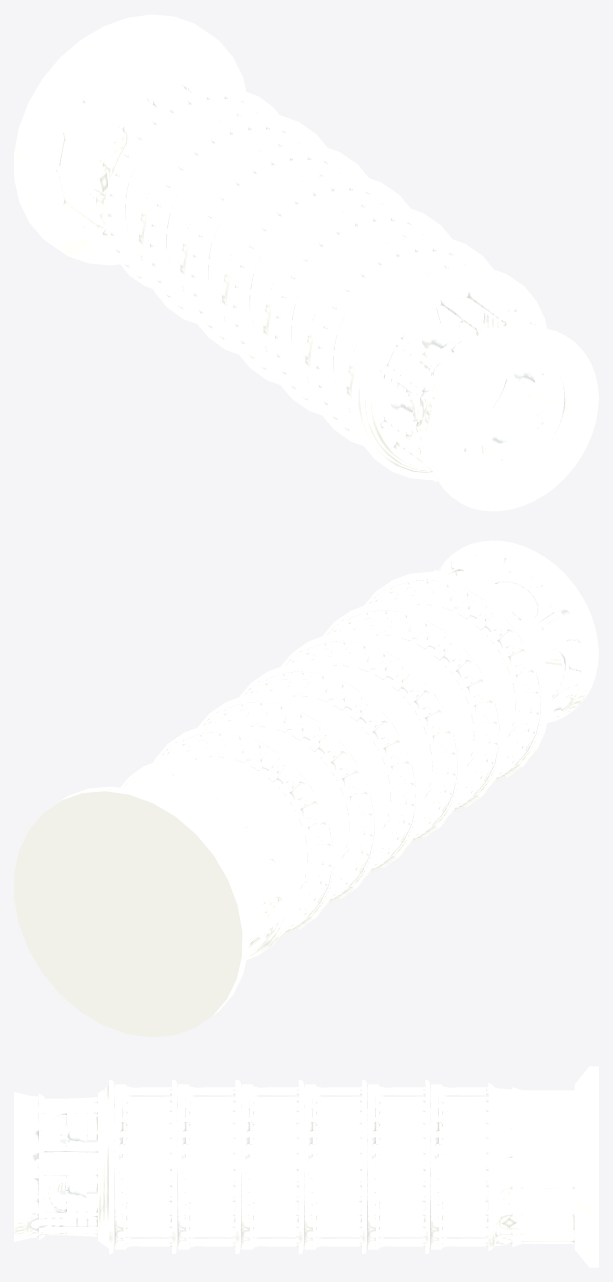
The model's file is pisa_tower.glb.
The picture shows the model from 3 angles, top to bottom: view 1: azimuth 30°, elevation 25°; view 2: azimuth 150°, elevation 25°; view 3: azimuth 270°, elevation 25°; orthographic projection. The views are drawn at different scales.
Parts seen in each view (by area): view 1: 10076_pisa_tower; view 2: 10076_pisa_tower; view 3: 10076_pisa_tower.
Part boxes in pixels (box(x1,y1,x2,y2)): 10076_pisa_tower: box(14, 14, 598, 511); 10076_pisa_tower: box(14, 540, 598, 1037); 10076_pisa_tower: box(14, 1066, 598, 1267).
Size of the model in its own units: 1910 by 1919 by 5578.
1 material, 1 textured.
